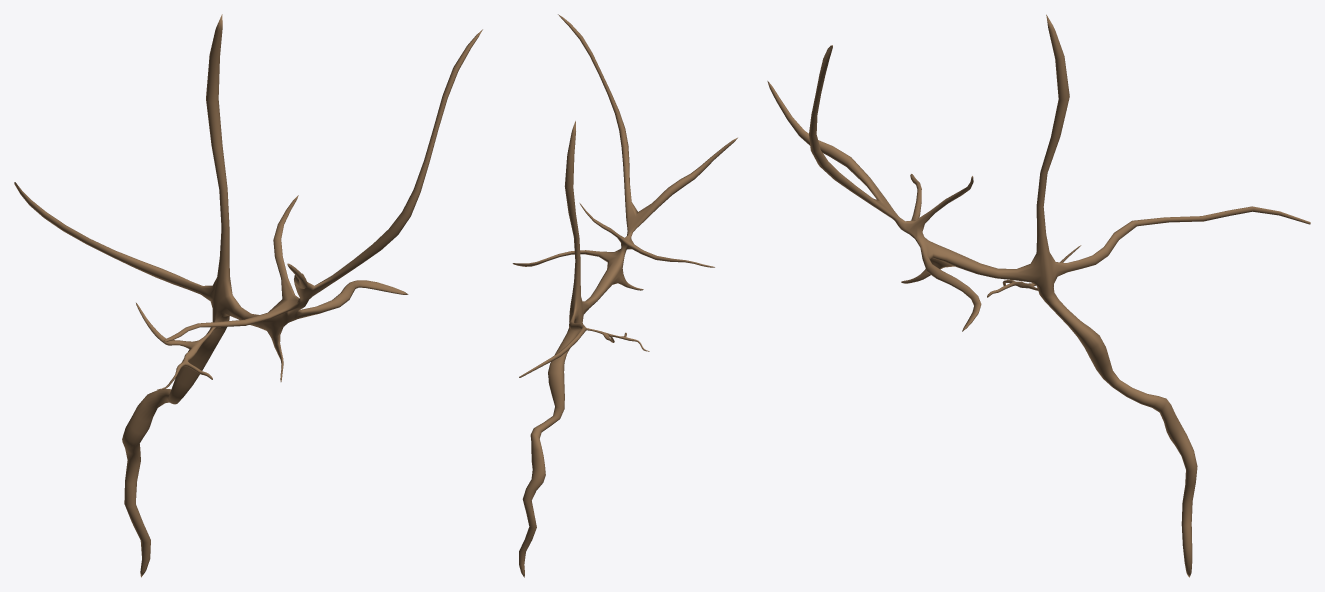
The model's file is rama1.glb.
3 views of the same model, side by side, from view 1: azimuth 30°, elevation 25°; view 2: azimuth 150°, elevation 25°; view 3: azimuth 270°, elevation 25° (orthographic). The views are drawn at different scales.
Parts seen in each view (by area): view 1: Cylinder; view 2: Cylinder; view 3: Cylinder.
Part boxes in pixels (left/top/right/bottom): Cylinder: left=14, top=14, right=482, bottom=577; Cylinder: left=512, top=14, right=737, bottom=577; Cylinder: left=767, top=14, right=1310, bottom=577.
Bounding box in the file's own units: 19.33 × 43.77 × 36.05.
